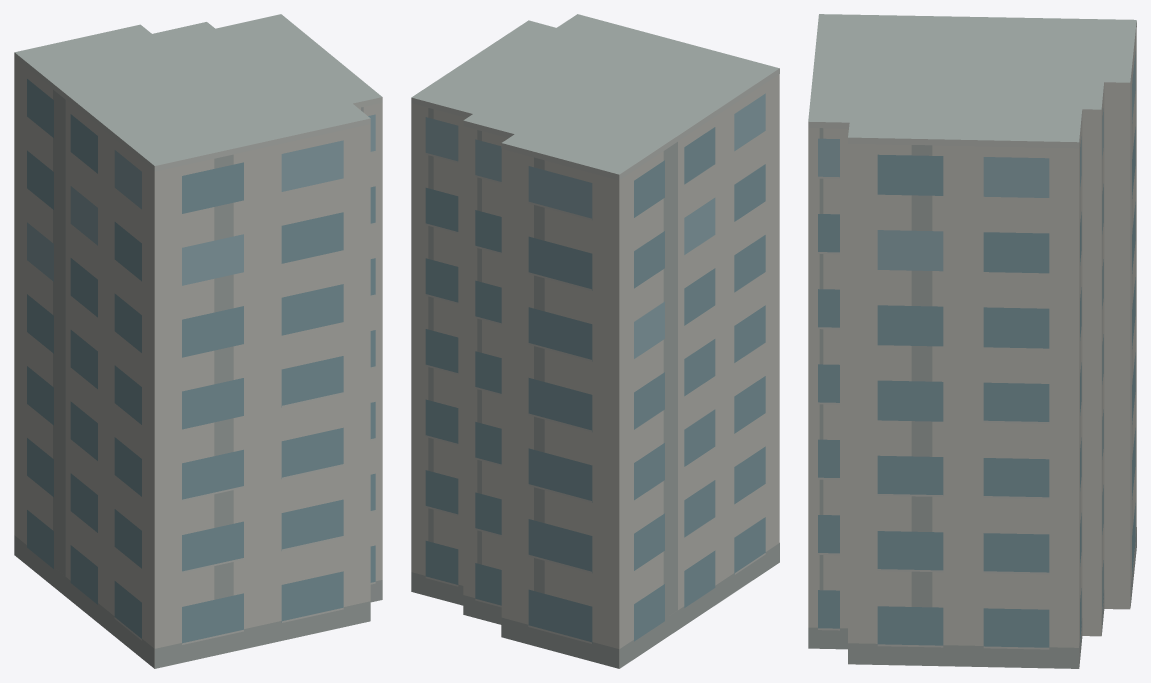
Rendered from survey-upis-32792391.glb.
3 renders of one model, left to right at view 1: azimuth 30°, elevation 25°; view 2: azimuth 150°, elevation 25°; view 3: azimuth 270°, elevation 25°, orthographic. The views are drawn at different scales.
Visible parts, largest first — view 1: survey-upis-32792391.tmp; view 2: survey-upis-32792391.tmp; view 3: survey-upis-32792391.tmp.
Boxes of the visible parts, x1,y1,x2,y2 form: survey-upis-32792391.tmp: (14, 14, 382, 668); survey-upis-32792391.tmp: (411, 14, 779, 668); survey-upis-32792391.tmp: (808, 14, 1136, 668).
Size of the model in its own units: 11.02 by 21.1 by 11.94.
